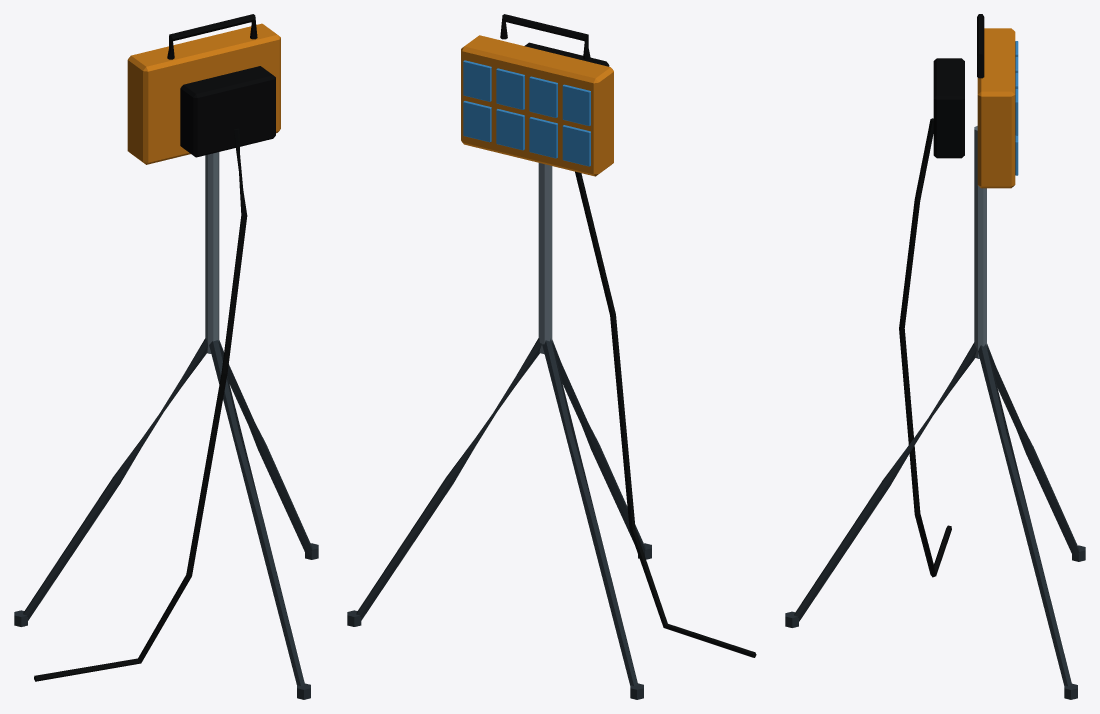
File: RESCUE_08_PortableFloodlight.obj
The picture shows the model from 3 angles, left to right: view 1: azimuth 30°, elevation 25°; view 2: azimuth 150°, elevation 25°; view 3: azimuth 270°, elevation 25°; orthographic projection.
Visible parts, largest first — view 1: RESCUE_08_PortableFloodlight_Lamp_Head, RESCUE_08_PortableFloodlight_Tripod, RESCUE_08_PortableFloodlight_Battery_Pack, RESCUE_08_PortableFloodlight_Cable, RESCUE_08_PortableFloodlight_Mast, RESCUE_08_PortableFloodlight_Handle; view 2: RESCUE_08_PortableFloodlight_Lamp_Head, RESCUE_08_PortableFloodlight_Lens_Grid, RESCUE_08_PortableFloodlight_Tripod, RESCUE_08_PortableFloodlight_Cable, RESCUE_08_PortableFloodlight_Mast, RESCUE_08_PortableFloodlight_Handle; view 3: RESCUE_08_PortableFloodlight_Tripod, RESCUE_08_PortableFloodlight_Lamp_Head, RESCUE_08_PortableFloodlight_Cable, RESCUE_08_PortableFloodlight_Battery_Pack, RESCUE_08_PortableFloodlight_Mast, RESCUE_08_PortableFloodlight_Lens_Grid, RESCUE_08_PortableFloodlight_Handle.
Part boxes in pixels (x1,y1,x2,y2): RESCUE_08_PortableFloodlight_Lamp_Head: (127,23,280,164); RESCUE_08_PortableFloodlight_Tripod: (14,338,318,699); RESCUE_08_PortableFloodlight_Battery_Pack: (180,66,275,157); RESCUE_08_PortableFloodlight_Cable: (34,128,247,681); RESCUE_08_PortableFloodlight_Mast: (205,152,219,353); RESCUE_08_PortableFloodlight_Handle: (167,14,257,59); RESCUE_08_PortableFloodlight_Lamp_Head: (461,35,613,176); RESCUE_08_PortableFloodlight_Lens_Grid: (463,60,590,166); RESCUE_08_PortableFloodlight_Tripod: (347,338,651,699); RESCUE_08_PortableFloodlight_Cable: (575,171,756,657); RESCUE_08_PortableFloodlight_Mast: (538,163,552,354); RESCUE_08_PortableFloodlight_Handle: (500,14,590,59); RESCUE_08_PortableFloodlight_Tripod: (785,342,1085,699); RESCUE_08_PortableFloodlight_Lamp_Head: (977,28,1015,188); RESCUE_08_PortableFloodlight_Cable: (899,118,951,577); RESCUE_08_PortableFloodlight_Battery_Pack: (933,58,964,158); RESCUE_08_PortableFloodlight_Mast: (974,126,986,358); RESCUE_08_PortableFloodlight_Lens_Grid: (1015,41,1018,175); RESCUE_08_PortableFloodlight_Handle: (977,14,984,78).
Bounding box in the file's own units: 1.25 × 2.09 × 0.9553.
